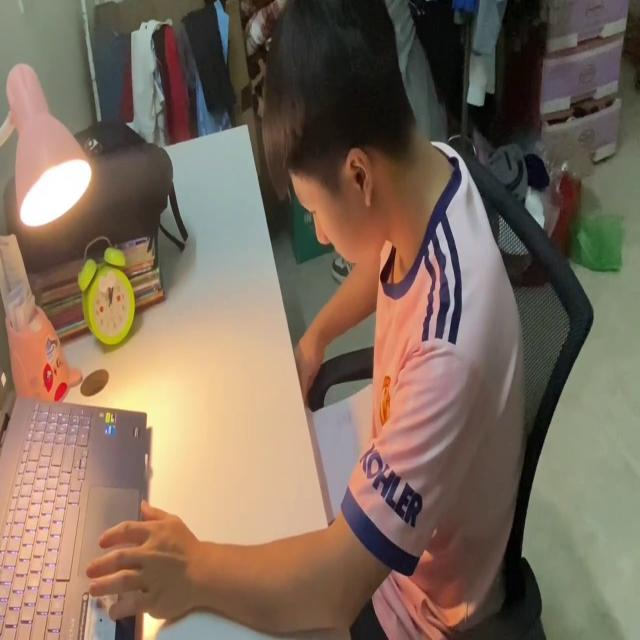book: (302, 379, 378, 518)
laptop: (0, 281, 150, 640)
student: (87, 1, 526, 640)
